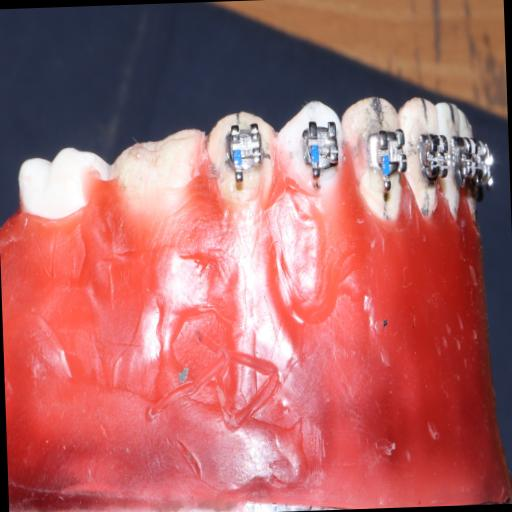incorrect_brace: (224, 123, 263, 166)
